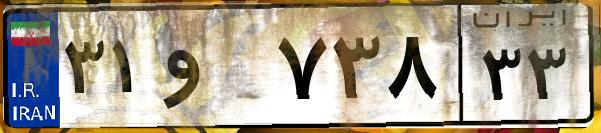1: (110, 28, 158, 98)
3: (330, 28, 385, 110), (57, 26, 110, 100), (475, 38, 525, 113), (525, 38, 570, 115)
7: (270, 28, 330, 110)
8: (385, 28, 445, 110)
و: (158, 20, 270, 120)
